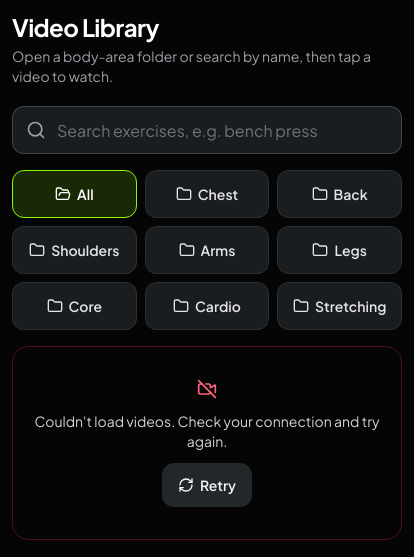
Test: Video Library: failures › shows an error with a retry that works, without leaking the raw error
Expected: the message "Couldn't load videos. Check your connection and try again. Retry" is shown, [12,346,402,540]
Click the button "Retry" at (207,485), box [162,463,252,507]
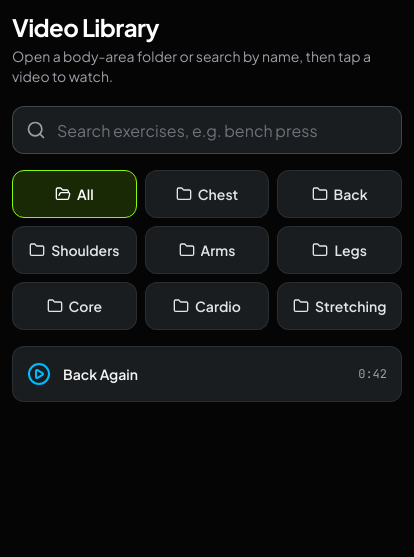
Result: the text "Back Again" is shown at [63,365,138,383]
Result: the message "Couldn't load videos. Check your connection and try again. Retry" is gone
